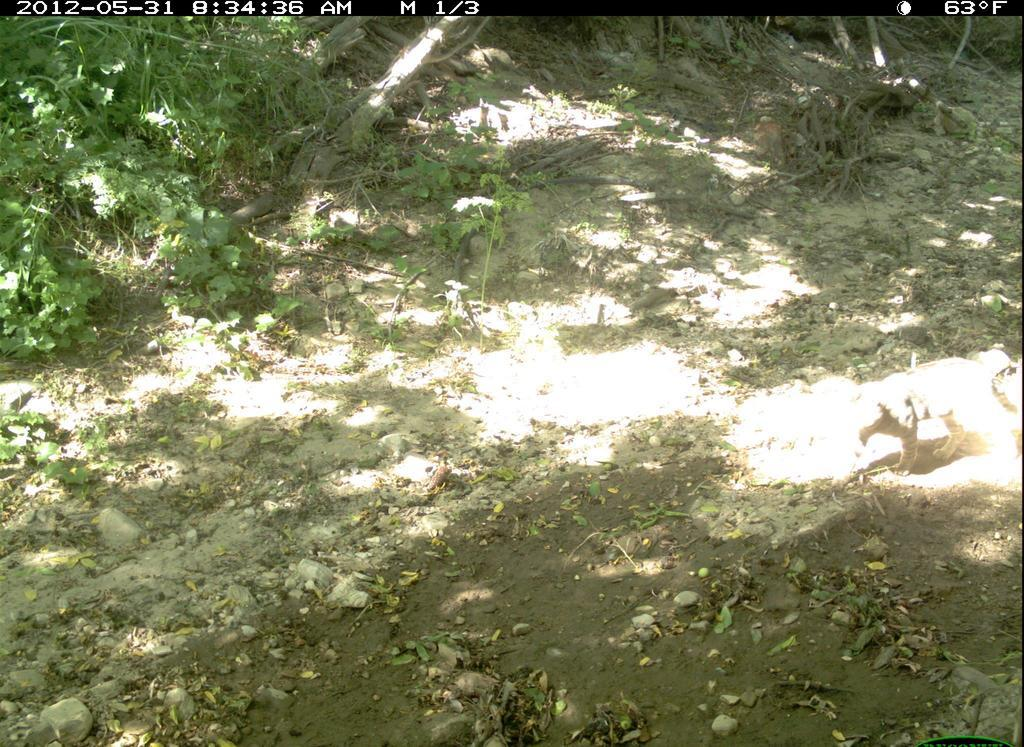cat: (803, 344, 1023, 495)
